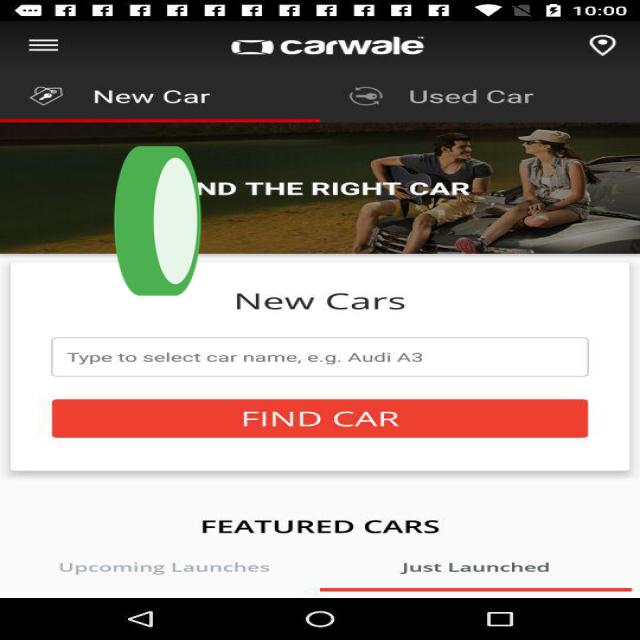social proof: (110, 88, 205, 364)
